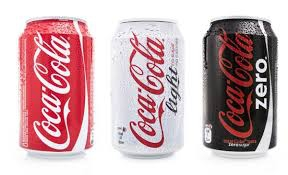can: (198, 15, 279, 158), (16, 15, 96, 156), (107, 16, 185, 158)
